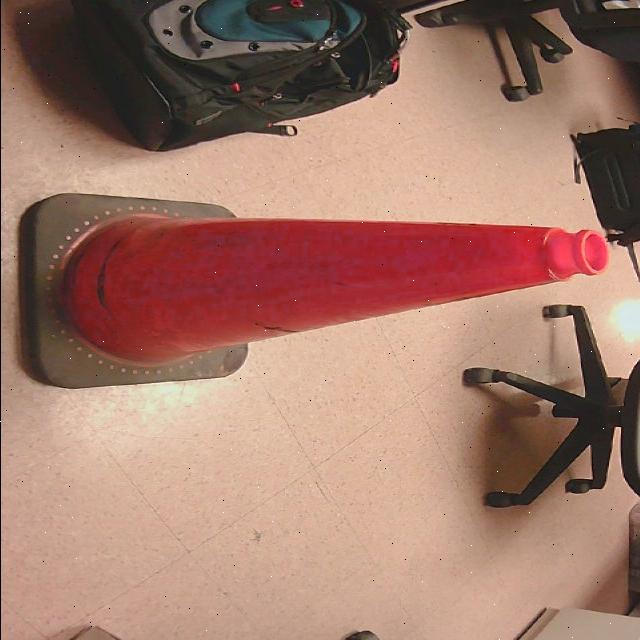traffic cone: (16, 194, 612, 392)
